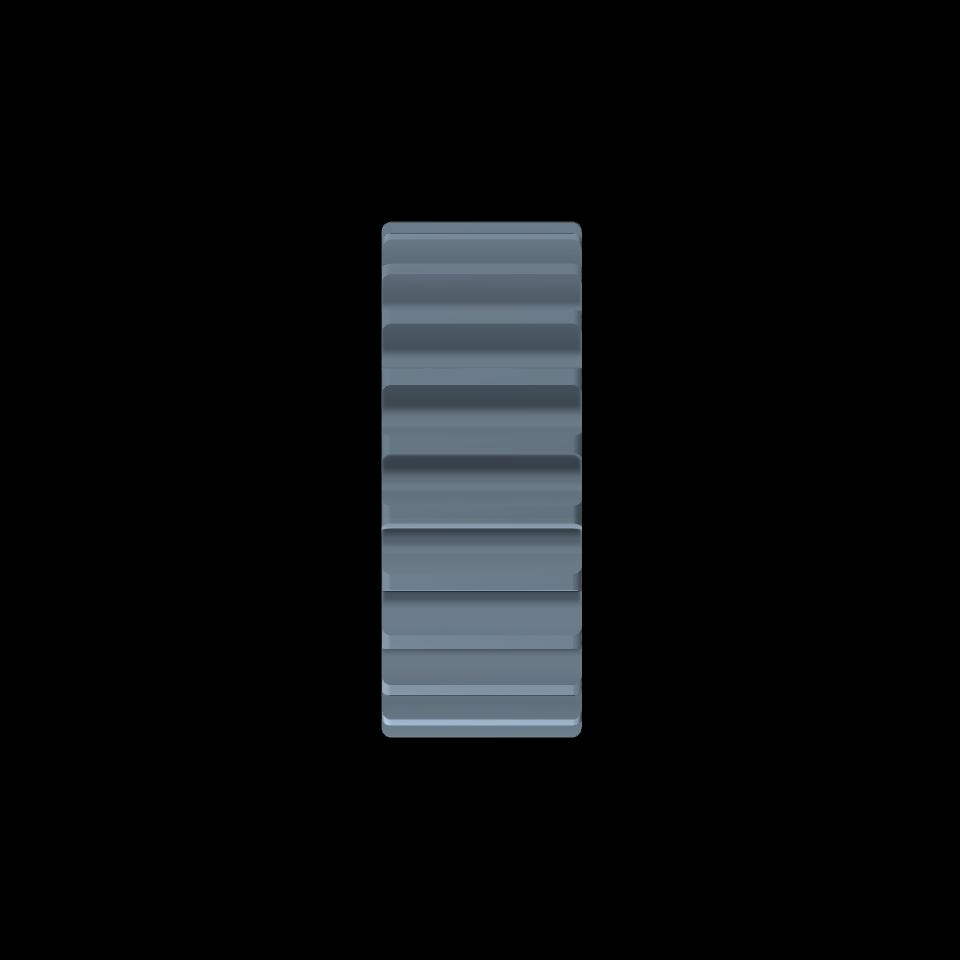Straight: (389, 221, 574, 736)
